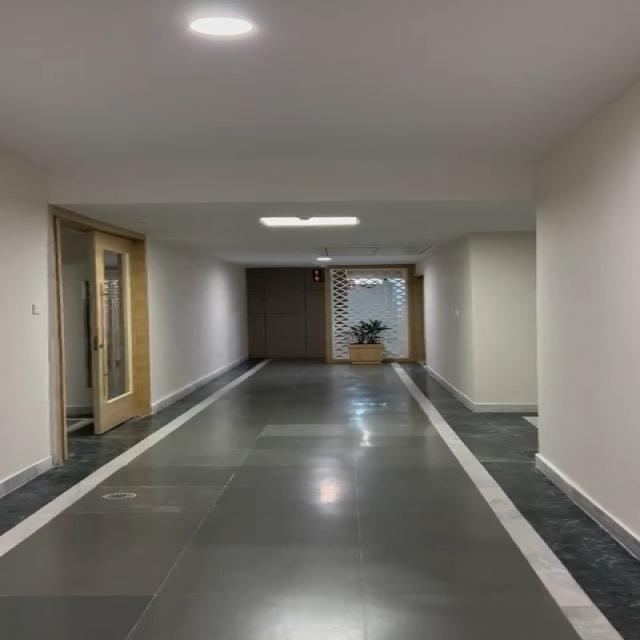door: (38, 210, 172, 435)
floor: (24, 433, 579, 640), (211, 370, 426, 439)
furniture: (323, 318, 407, 371)
wall: (422, 159, 640, 391), (0, 172, 63, 470), (152, 232, 258, 376)
